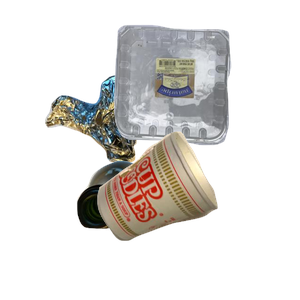glass: (74, 158, 223, 300)
metal: (42, 72, 239, 229)
plastic: (112, 22, 300, 160)
trash: (95, 129, 300, 300)
